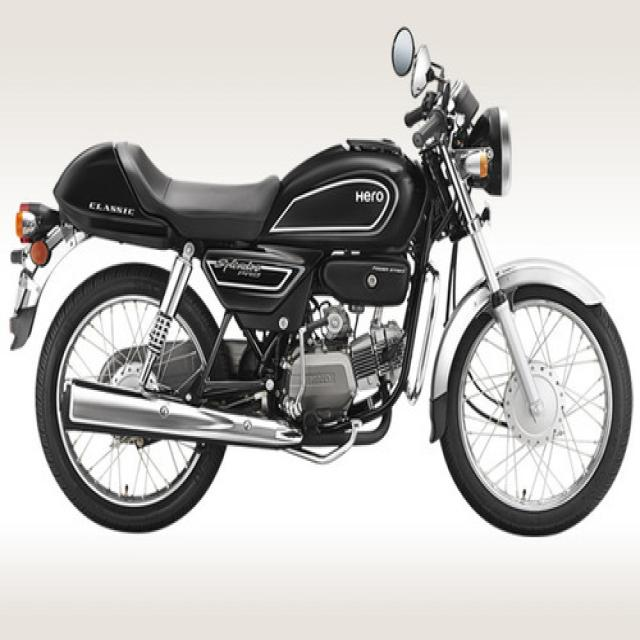MOTORCYCLE: (12, 27, 632, 535)
